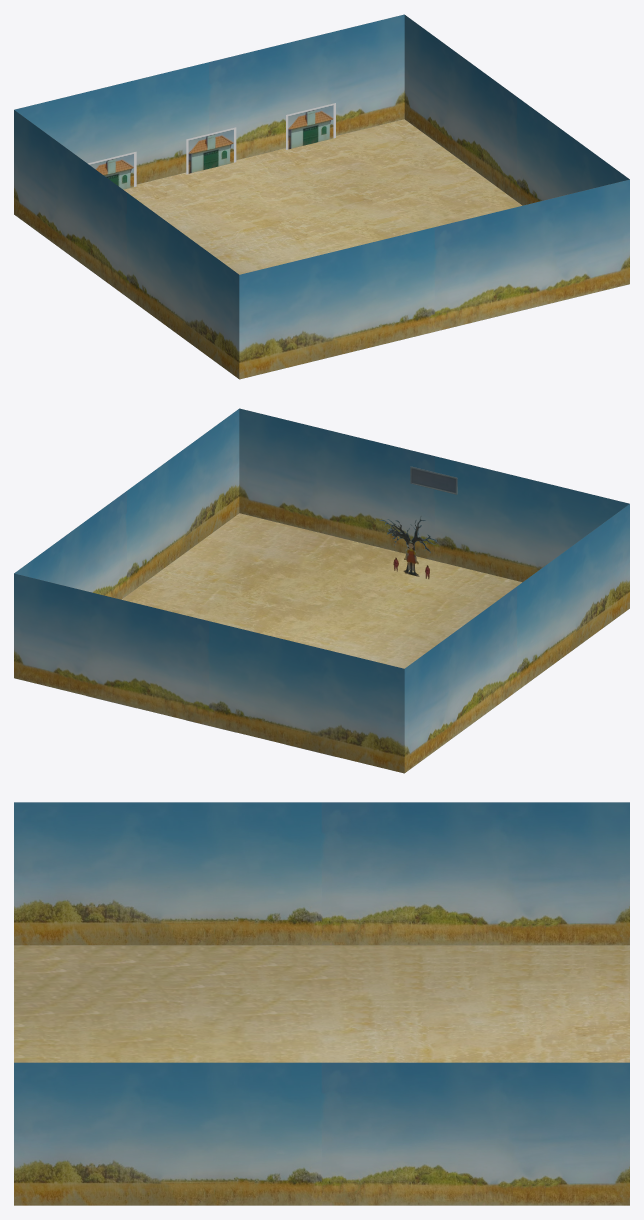
Rendered from squid-game-map.glb.
3 renders of one model, top to bottom at view 1: azimuth 30°, elevation 25°; view 2: azimuth 150°, elevation 25°; view 3: azimuth 270°, elevation 25°, orthographic. The views are drawn at different scales.
Parts seen in each view (by area): view 1: Object_4, Object_5, Object_7; view 2: Object_4, Object_5, Object_6; view 3: Object_4, Object_5.
Part boxes in pixels (left/top/right/bottom): Object_4: left=14, top=14, right=629, bottom=379; Object_5: left=123, top=119, right=521, bottom=274; Object_7: left=88, top=103, right=335, bottom=189; Object_4: left=14, top=408, right=629, bottom=773; Object_5: left=122, top=513, right=521, bottom=668; Object_6: left=379, top=466, right=457, bottom=579; Object_4: left=14, top=802, right=629, bottom=1205; Object_5: left=14, top=945, right=629, bottom=1062.
Bounding box in the file's own units: 176 × 50.91 × 176.
4 materials, 4 textured.
